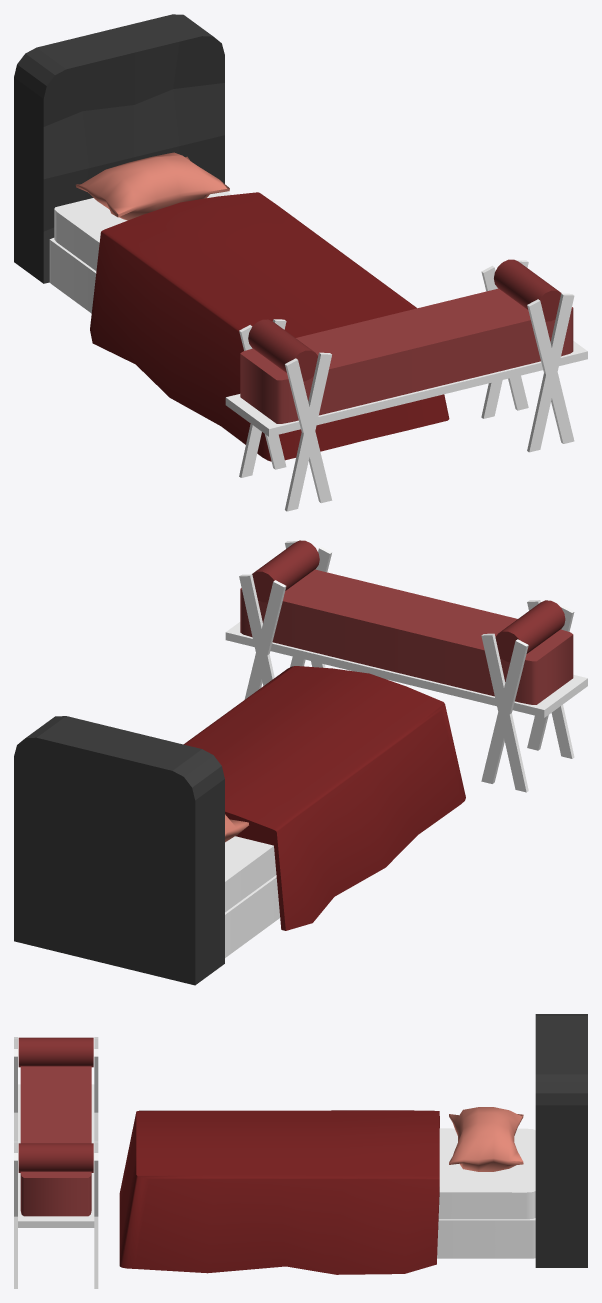
File: Lv3 Bed.fbx
The picture shows the model from 3 angles, top to bottom: view 1: azimuth 30°, elevation 25°; view 2: azimuth 150°, elevation 25°; view 3: azimuth 270°, elevation 25°; orthographic projection. The views are drawn at different scales.
Visible parts, largest first — view 1: Lv3 Bed.006, Lv3 Bed.005; view 2: Lv3 Bed.006, Lv3 Bed.005; view 3: Lv3 Bed.006, Lv3 Bed.005.
Boxes of the visible parts, <box> form: Lv3 Bed.006: <box>49,152,587,511</box>; Lv3 Bed.005: <box>14,14,224,283</box>; Lv3 Bed.006: <box>183,540,587,957</box>; Lv3 Bed.005: <box>14,716,224,985</box>; Lv3 Bed.006: <box>14,1037,535,1288</box>; Lv3 Bed.005: <box>535,1014,587,1267</box>.
Bounding box in the file's own units: 139 × 89.24 × 247.
